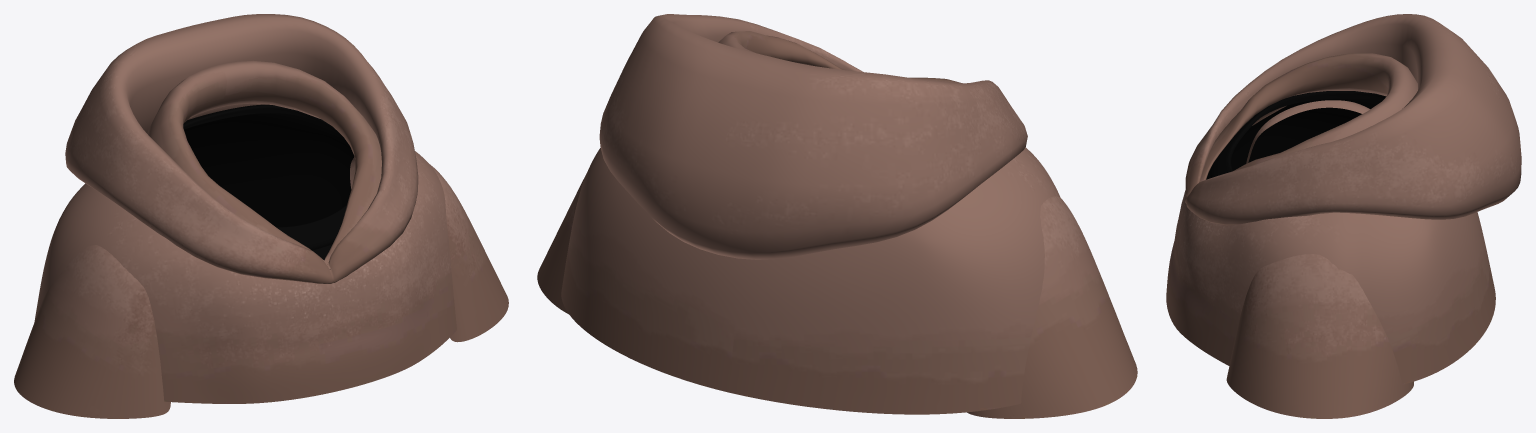
Rendered from clothe5.glb.
3 renders of one model, left to right at view 1: azimuth 30°, elevation 25°; view 2: azimuth 150°, elevation 25°; view 3: azimuth 270°, elevation 25°, orthographic. The views are drawn at different scales.
Visible parts, largest first — view 1: clothes.005; view 2: clothes.005; view 3: clothes.005.
Boxes of the visible parts, x1,y1,x2,y2 form: clothes.005: (14, 14, 508, 418); clothes.005: (537, 14, 1137, 418); clothes.005: (1166, 14, 1521, 418).
Bounding box in the file's own units: 1.92 × 1.04 × 1.32.
1 material, 1 textured.
